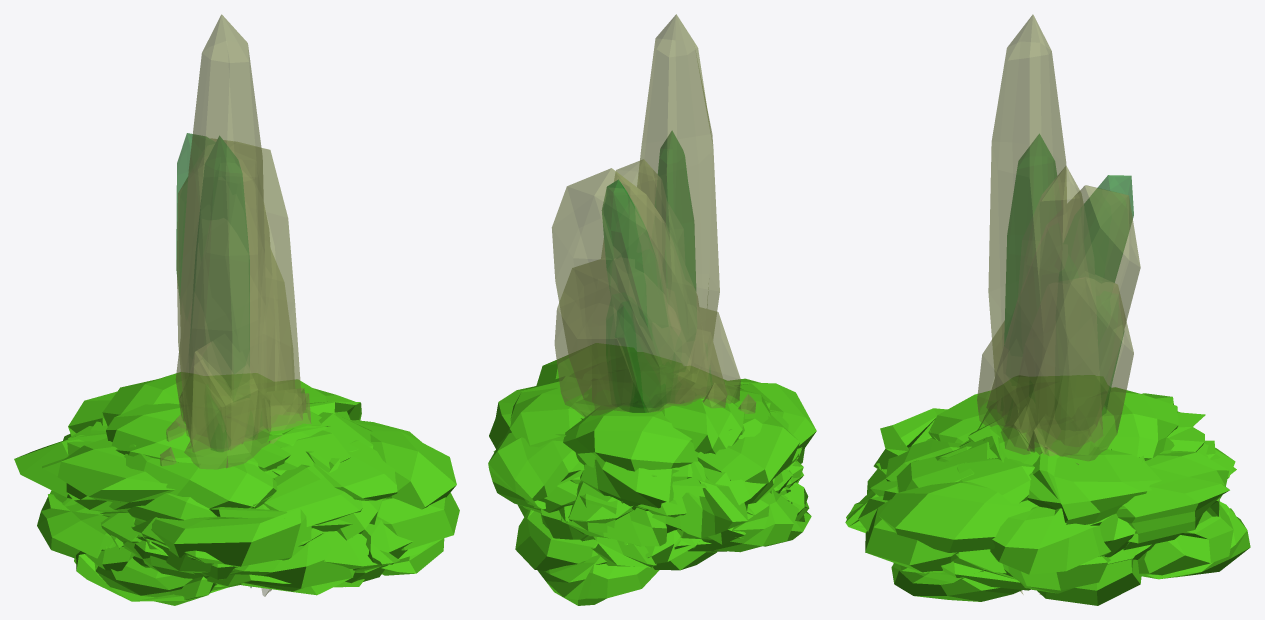
The model's file is crystal25.obj.
3 renders of one model, left to right at view 1: azimuth 30°, elevation 25°; view 2: azimuth 150°, elevation 25°; view 3: azimuth 270°, elevation 25°, orthographic. The views are drawn at different scales.
Parts seen in each view (by area): view 1: Cube.001, Circle.001, Circle; view 2: Cube.001, Circle.001, Circle; view 3: Cube.001, Circle.001, Circle.
Part boxes in pixels (x1,y1,x2,y2): Cube.001: (14, 372, 459, 605); Circle.001: (160, 14, 311, 596); Circle: (176, 133, 251, 587); Cube.001: (488, 355, 816, 605); Circle.001: (552, 14, 755, 417); Circle: (602, 131, 711, 412); Cube.001: (845, 387, 1250, 605); Circle.001: (977, 14, 1140, 594); Circle: (1004, 134, 1133, 415).
Size of the model in its own units: 2.91 by 4.72 by 3.08.
